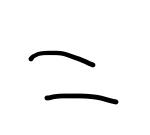eqv: (29, 50, 119, 105)
